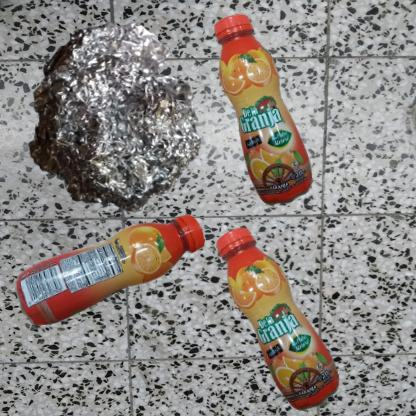aluminio: (10, 10, 215, 233)
botella: (213, 213, 363, 416), (10, 213, 219, 332), (213, 10, 317, 216)
